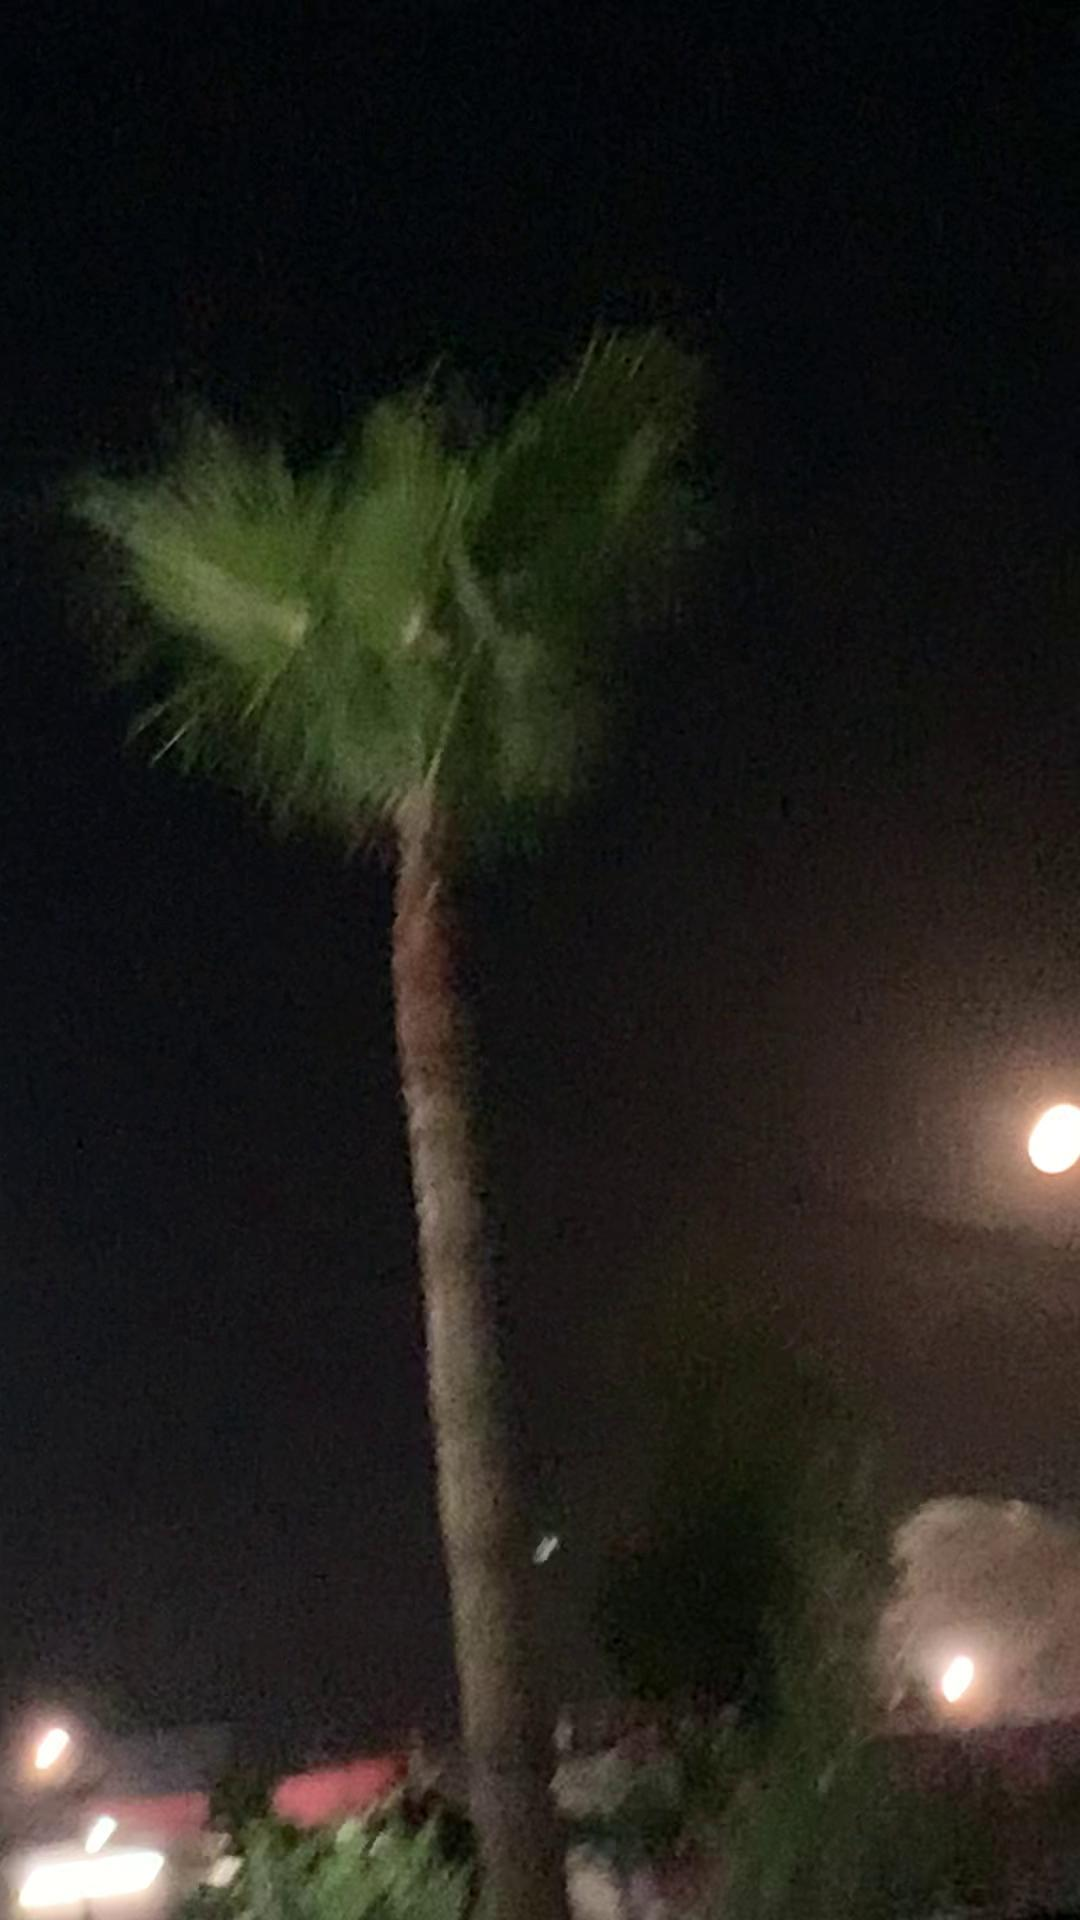moon: (982, 1108, 1080, 1189)
